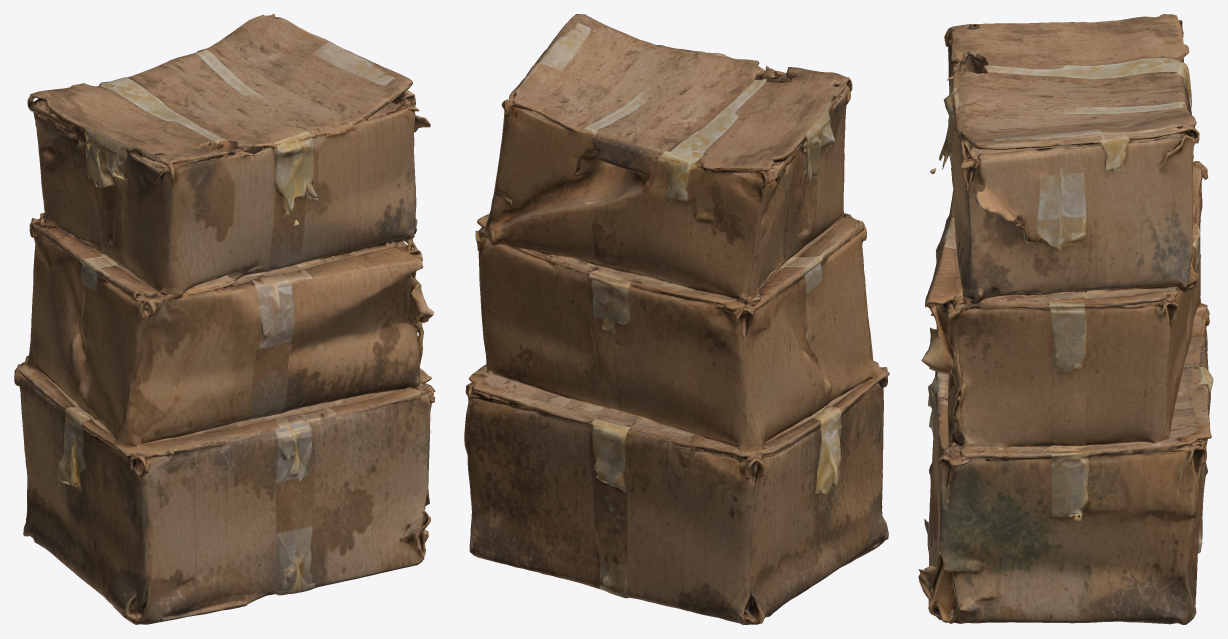
Rendered from CardboardBoxes.fbx.
3 views of the same model, side by side, from view 1: azimuth 30°, elevation 25°; view 2: azimuth 150°, elevation 25°; view 3: azimuth 270°, elevation 25° (orthographic). The views are drawn at different scales.
Parts seen in each view (by area): view 1: texture_mapping; view 2: texture_mapping; view 3: texture_mapping.
Part boxes in pixels (<box>): texture_mapping: <box>14,14,435,624</box>; texture_mapping: <box>464,14,889,624</box>; texture_mapping: <box>918,14,1213,624</box>.
Bounding box in the file's own units: 0.7367 × 0.5552 × 1.
1 material, 1 textured.
